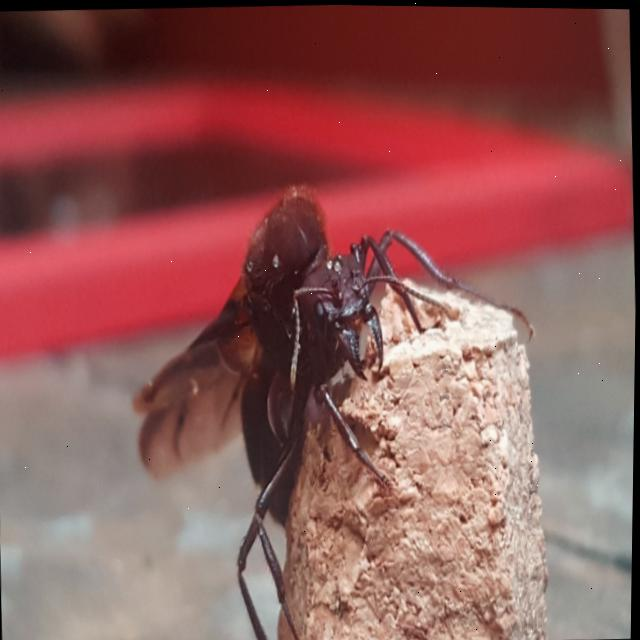Alive-Female-Alate: (120, 170, 549, 640)
